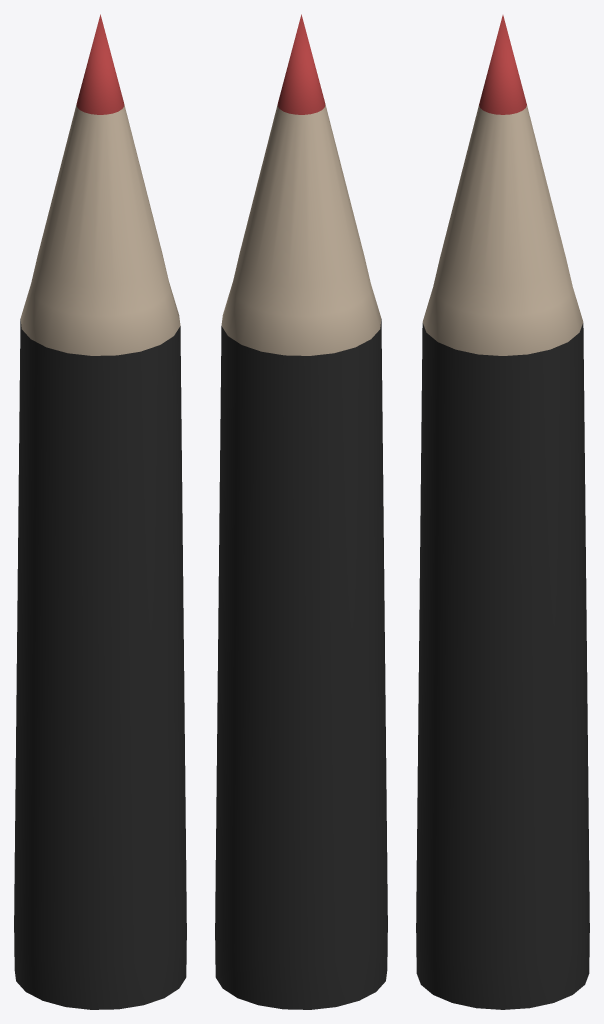
File: pencil.fbx
3 views of the same model, side by side, from view 1: azimuth 30°, elevation 25°; view 2: azimuth 150°, elevation 25°; view 3: azimuth 270°, elevation 25° (orthographic).
Visible parts, largest first — view 1: pencil1; view 2: pencil1; view 3: pencil1.
Part boxes in pixels (x1,y1,x2,y2): pencil1: (14,14,186,1009); pencil1: (215,14,387,1009); pencil1: (416,15,589,1009).
Size of the model in its own units: 0.078 by 0.4754 by 0.078.
